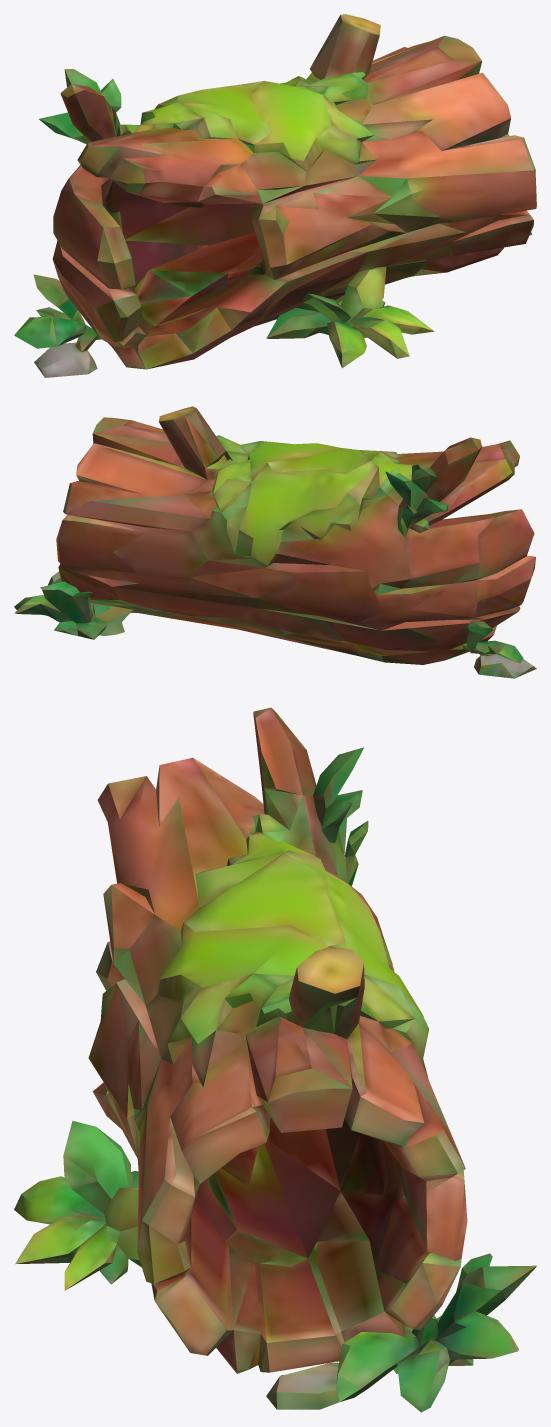
File: hollow-log.glb
3 renders of one model, top to bottom at view 1: azimuth 30°, elevation 25°; view 2: azimuth 150°, elevation 25°; view 3: azimuth 270°, elevation 25°, orthographic. The views are drawn at different scales.
Visible parts, largest first — view 1: output_unwrapped; view 2: output_unwrapped; view 3: output_unwrapped.
Boxes of the visible parts, x1=… form: output_unwrapped: x1=14, y1=14, x2=536, y2=377; output_unwrapped: x1=14, y1=406, x2=536, y2=678; output_unwrapped: x1=14, y1=707, x2=536, y2=1412.
Size of the model in its own units: 1.9 by 0.9337 by 1.15.
Materials: 1 (1 with a texture image).
